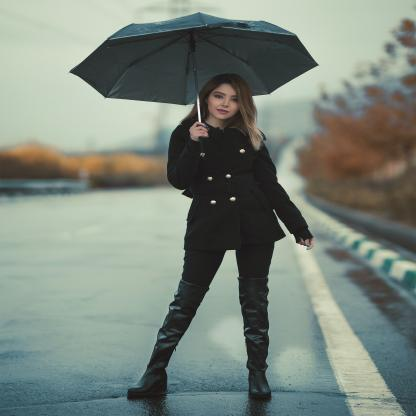Eye: (214, 94, 224, 100), (230, 97, 240, 102)
Mouth: (216, 108, 230, 115)
Nose: (221, 99, 230, 108)
